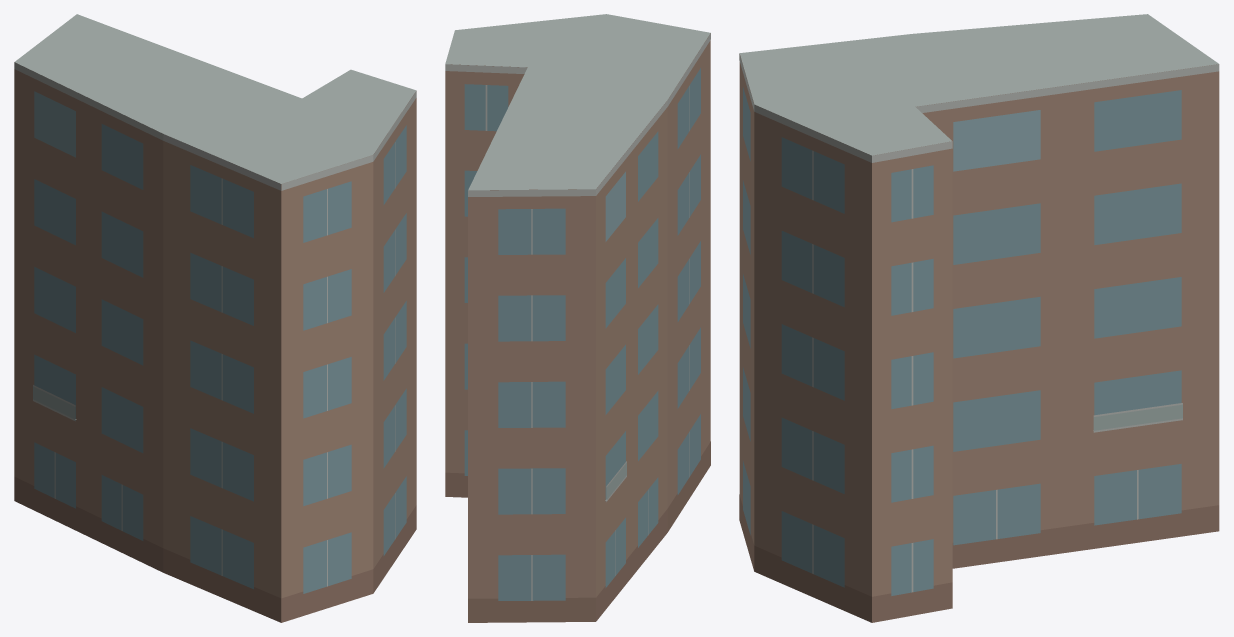
The model's file is survey-upis-32720131.glb.
The picture shows the model from 3 angles, left to right: view 1: azimuth 30°, elevation 25°; view 2: azimuth 150°, elevation 25°; view 3: azimuth 270°, elevation 25°; orthographic projection. The views are drawn at different scales.
Parts seen in each view (by area): view 1: survey-upis-32720131.tmp; view 2: survey-upis-32720131.tmp; view 3: survey-upis-32720131.tmp.
Part boxes in pixels (box(x1,y1,x2,y2)): survey-upis-32720131.tmp: box(14, 14, 416, 622); survey-upis-32720131.tmp: box(445, 14, 710, 622); survey-upis-32720131.tmp: box(739, 14, 1219, 622).
Size of the model in its own units: 10.09 by 15.5 by 14.44.
